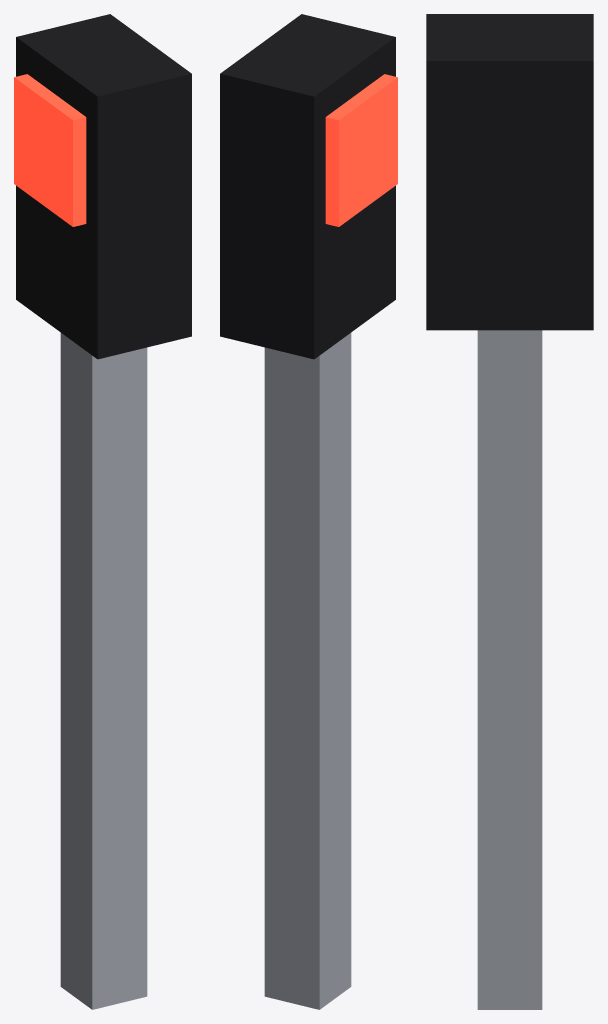
The model's file is signal_red.glb.
3 renders of one model, left to right at view 1: azimuth 30°, elevation 25°; view 2: azimuth 150°, elevation 25°; view 3: azimuth 270°, elevation 25°, orthographic. The views are drawn at different scales.
Visible parts, largest first — view 1: Post, Head, Lamp; view 2: Post, Head, Lamp; view 3: Head, Post.
Boxes of the visible parts, <box> form: Post: <box>60,333,147,1009</box>; Head: <box>16,14,191,359</box>; Lamp: <box>14,74,86,226</box>; Post: <box>264,333,351,1009</box>; Head: <box>220,14,395,359</box>; Lamp: <box>325,74,397,226</box>; Head: <box>426,14,593,330</box>; Post: <box>477,330,542,1009</box>.
Size of the model in its own units: 0.137 by 1.14 by 0.18.
